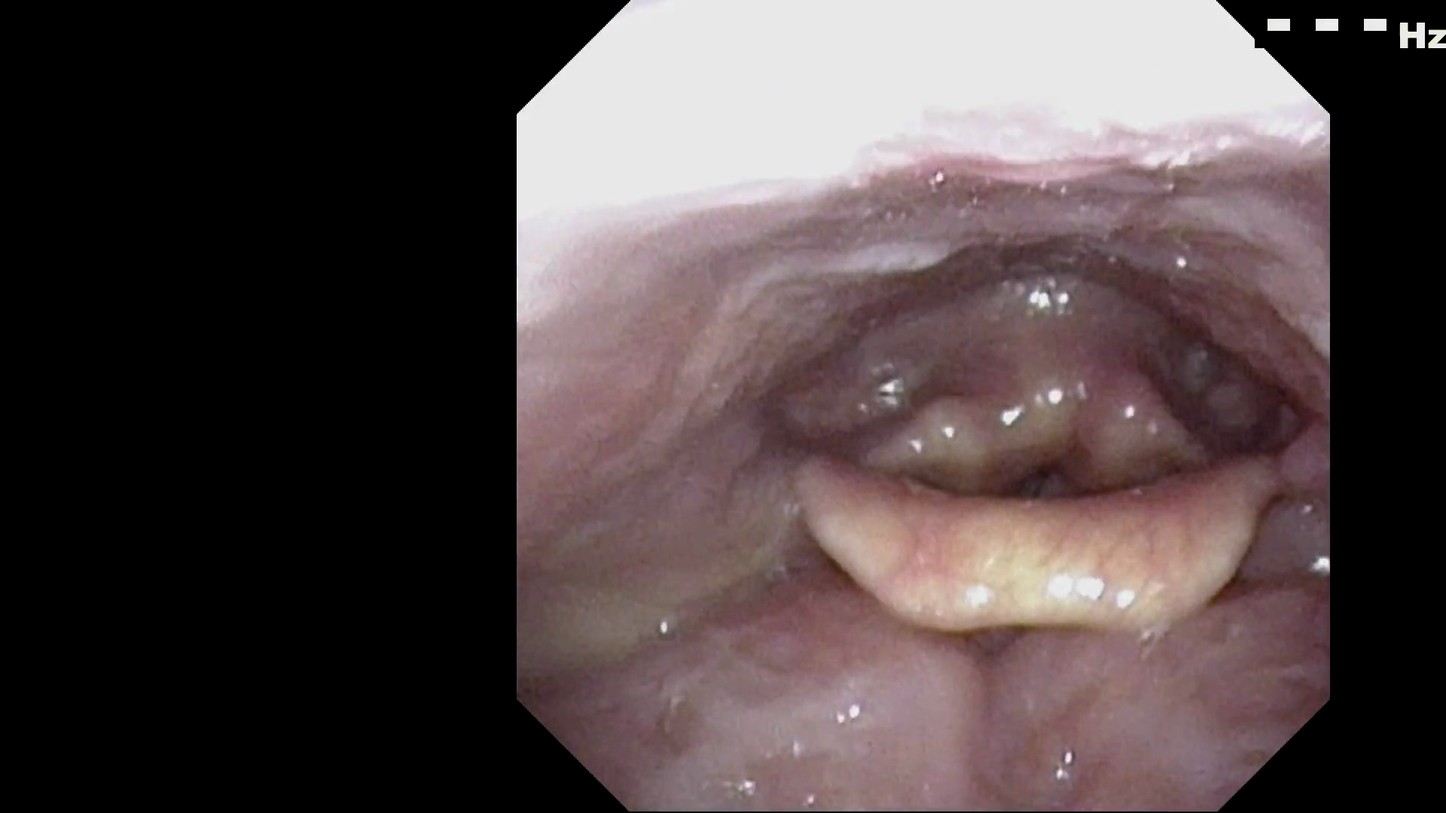epiglottis: (782, 429, 1307, 668)
trachea: (972, 396, 1118, 550)
